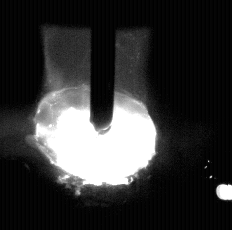arame: (91, 0, 115, 135)
poca: (34, 0, 157, 230)
